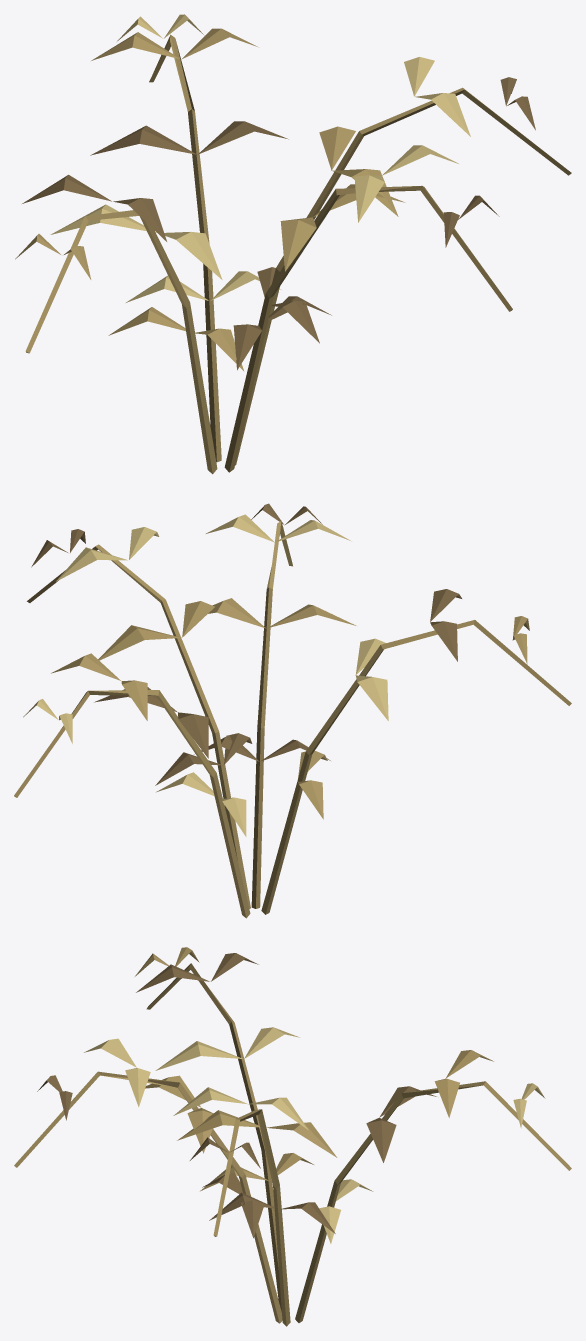
Rendered from DESERT_FERN.shadow.glb.
3 views of the same model, one above another, from view 1: azimuth 30°, elevation 25°; view 2: azimuth 150°, elevation 25°; view 3: azimuth 270°, elevation 25° (orthographic). The views are drawn at different scales.
Visible parts, largest first — view 1: DESERT_FERN; view 2: DESERT_FERN; view 3: DESERT_FERN.
Boxes of the visible parts, <box> form: DESERT_FERN: <box>15,14,571,474</box>; DESERT_FERN: <box>14,503,571,918</box>; DESERT_FERN: <box>14,947,571,1326</box>.
Size of the model in its own units: 0.5391 by 0.3228 by 0.5429.
Materials: 1 (1 with a texture image).
